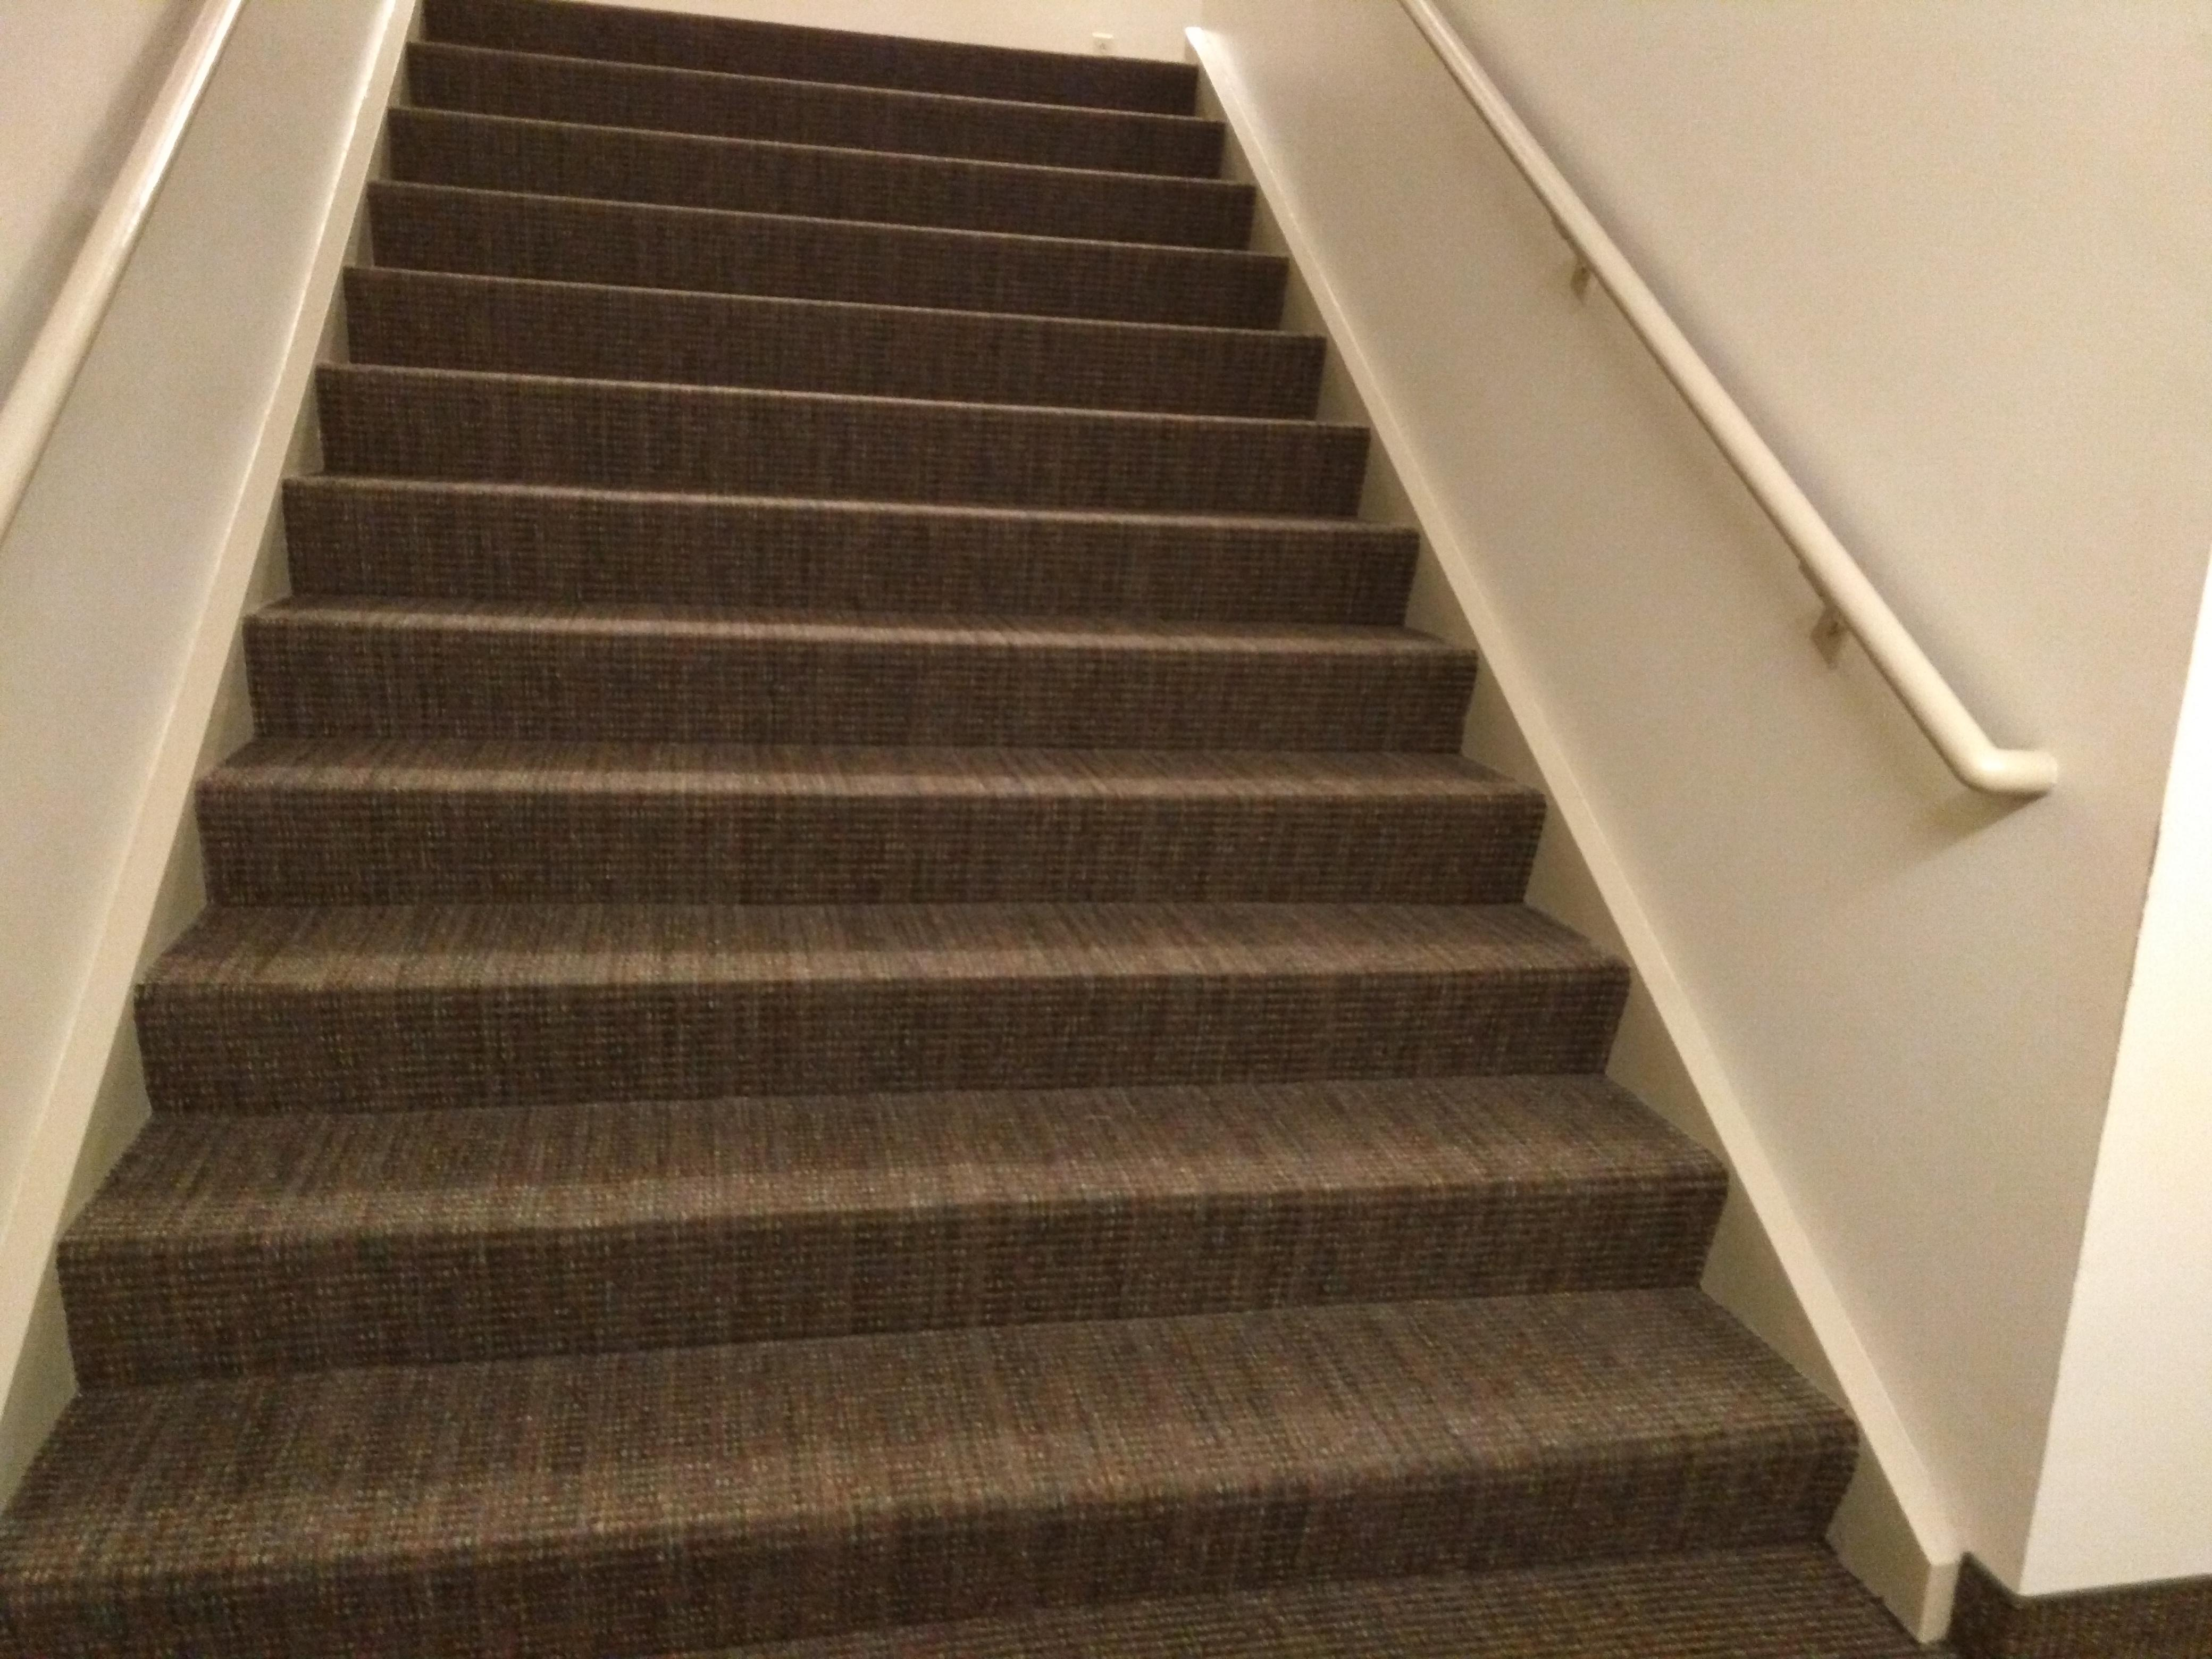stairs_up: (10, 12, 1860, 1621)
